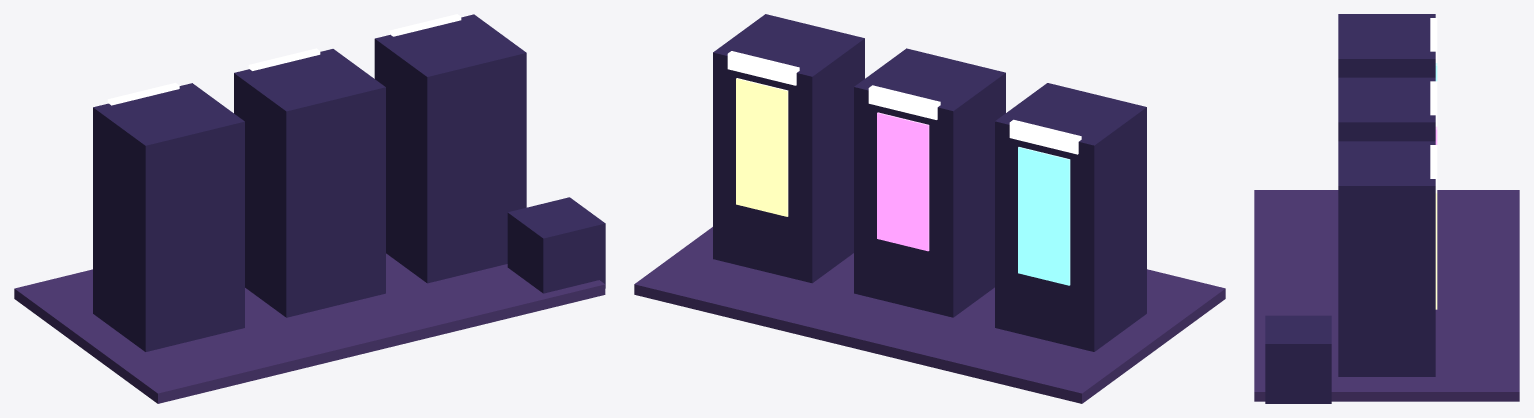
File: 16_vending_machine_cluster.glb
3 views of the same model, side by side, from view 1: azimuth 30°, elevation 25°; view 2: azimuth 150°, elevation 25°; view 3: azimuth 270°, elevation 25° (orthographic). The views are drawn at different scales.
Visible parts, largest first — view 1: vm_0_1, vm_1_4, vm_2_7, pad_0, bin_10, vm_brand_0_3, vm_brand_1_6, vm_brand_2_9; view 2: pad_0, vm_0_1, vm_1_4, vm_2_7, vm_screen_1_5, vm_screen_2_8, vm_screen_0_2, vm_brand_0_3, vm_brand_1_6, vm_brand_2_9; view 3: pad_0, vm_2_7, vm_1_4, vm_0_1, bin_10, vm_screen_2_8, vm_brand_1_6, vm_brand_2_9, vm_brand_0_3.
Part boxes in pixels (left/top/right/bottom): vm_0_1: left=93, top=83, right=244, bottom=351; vm_1_4: left=234, top=49, right=385, bottom=317; vm_2_7: left=374, top=14, right=526, bottom=283; pad_0: left=14, top=253, right=605, bottom=403; bin_10: left=507, top=197, right=605, bottom=293; vm_brand_0_3: left=107, top=82, right=179, bottom=105; vm_brand_1_6: left=248, top=48, right=320, bottom=70; vm_brand_2_9: left=389, top=14, right=461, bottom=36; pad_0: left=634, top=227, right=1225, bottom=403; vm_0_1: left=995, top=83, right=1146, bottom=351; vm_1_4: left=854, top=48, right=1005, bottom=317; vm_2_7: left=713, top=14, right=864, bottom=283; vm_screen_1_5: left=877, top=112, right=929, bottom=251; vm_screen_2_8: left=736, top=78, right=788, bottom=216; vm_screen_0_2: left=1018, top=147, right=1070, bottom=285; vm_brand_0_3: left=1009, top=119, right=1081, bottom=154; vm_brand_1_6: left=868, top=85, right=940, bottom=119; vm_brand_2_9: left=727, top=51, right=799, bottom=85; pad_0: left=1254, top=190, right=1519, bottom=401; vm_2_7: left=1338, top=141, right=1435, bottom=376; vm_1_4: left=1338, top=77, right=1435, bottom=141; vm_0_1: left=1338, top=14, right=1435, bottom=77; bin_10: left=1265, top=315, right=1331, bottom=403; vm_screen_2_8: left=1435, top=190, right=1437, bottom=309; vm_brand_1_6: left=1430, top=81, right=1437, bottom=126; vm_brand_2_9: left=1430, top=145, right=1437, bottom=190; vm_brand_0_3: left=1430, top=18, right=1437, bottom=62.
Bounding box in the file's own units: 5.47 × 2.54 × 3.
